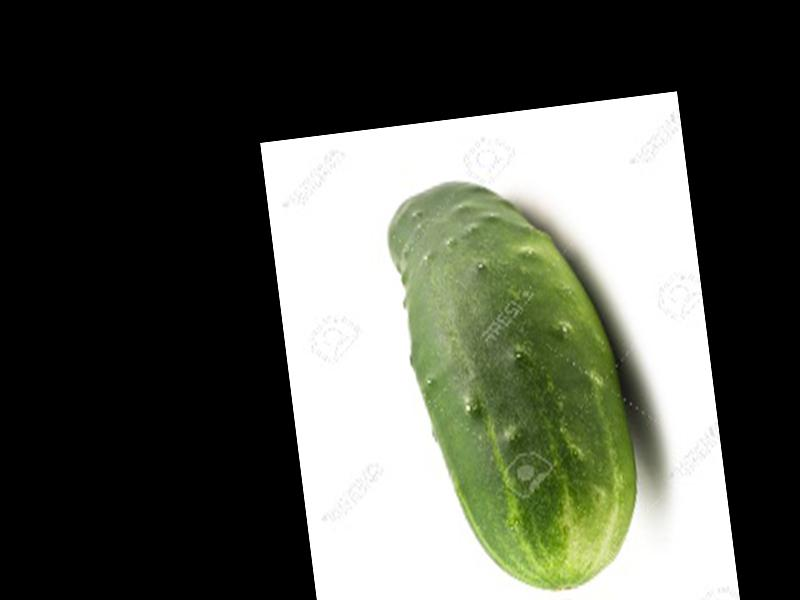Cucumber: (381, 163, 652, 600)
